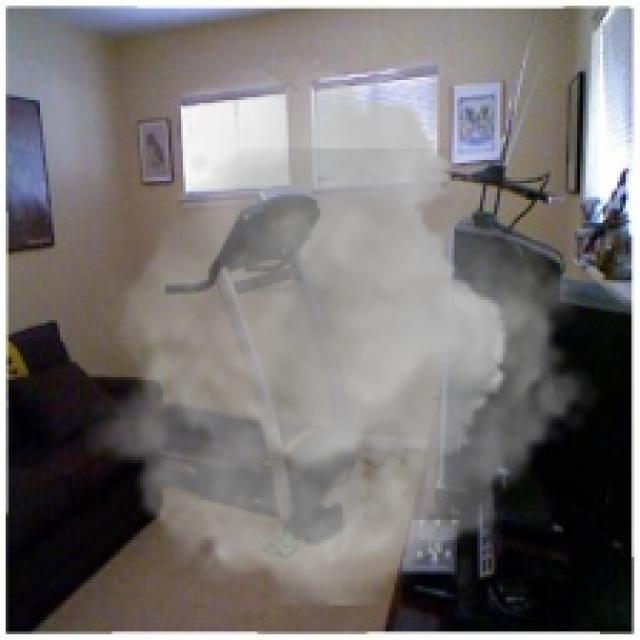smoke: (80, 57, 603, 606)
